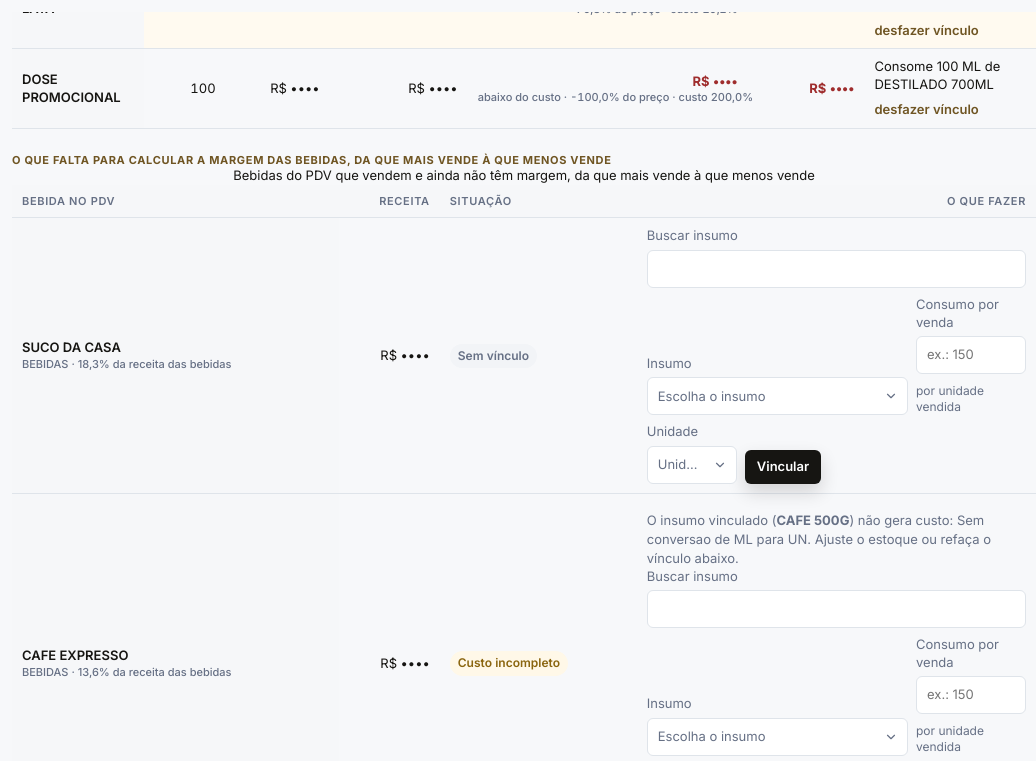
Test: MargemBebidasPanel: o que falta › quantidade invalida (zero): erro anunciado e nao grava
(page scrolled)
Select "POLPA DE FRUTA 1KG (UN)" in the dropdown named "Insumo comprado para SUCO DA CASA" at (777, 396), box [647, 377, 908, 415]
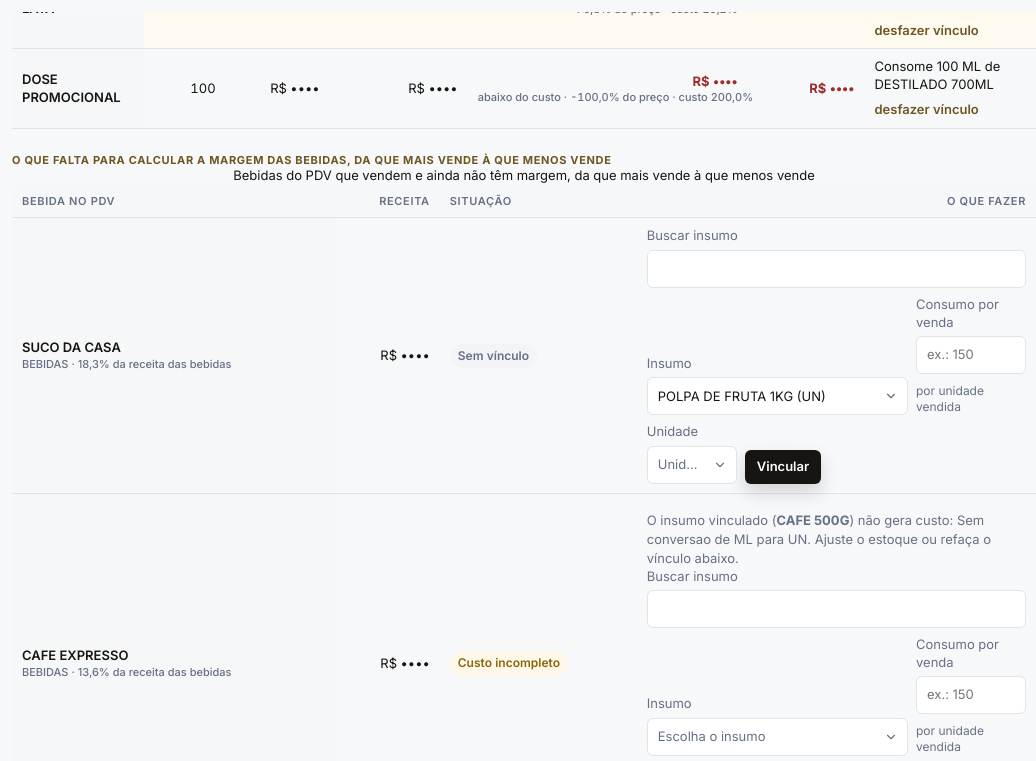
Type "0" into the field named "Quanto uma venda de SUCO DA CASA consome" at (971, 355), box [916, 336, 1026, 374]
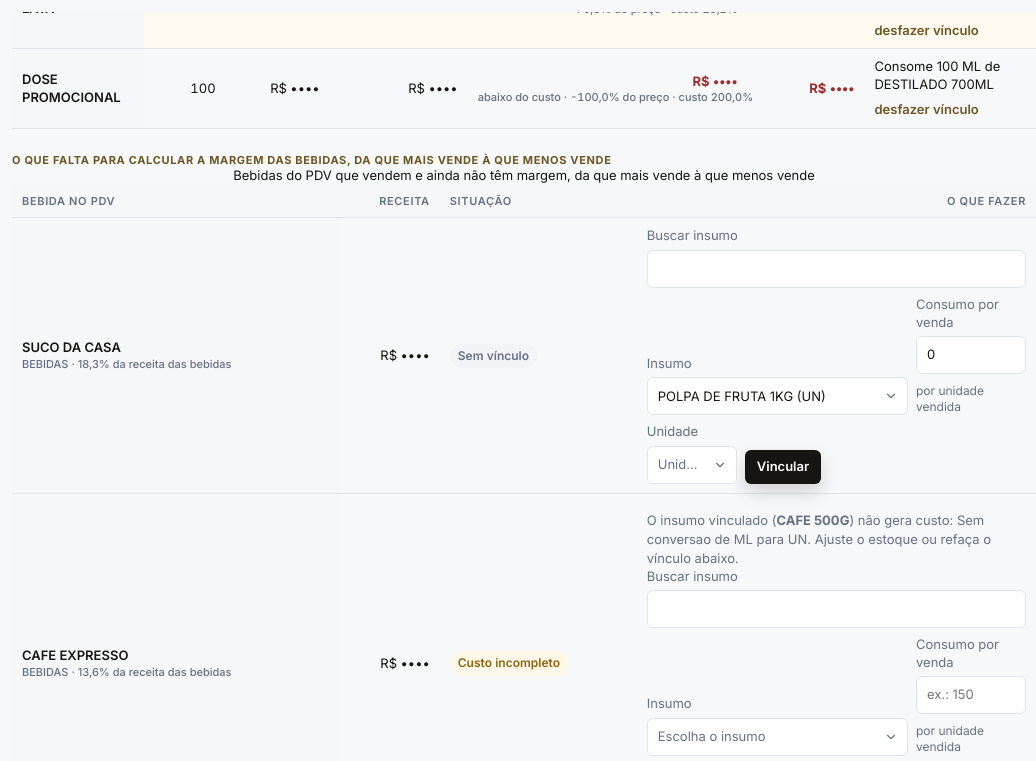
Select "UN" in the dropdown named "Unidade do consumo de SUCO DA CASA" at (692, 465), box [647, 446, 737, 484]
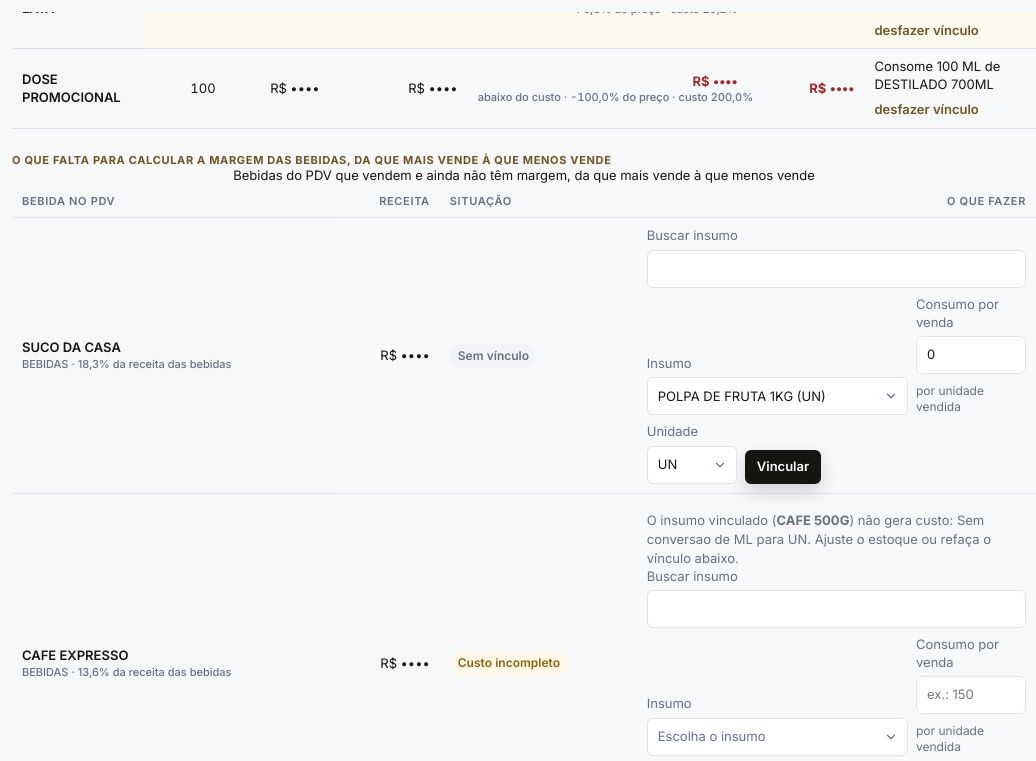
Click the button with aria-label "Vincular SUCO DA CASA" at (783, 467), box [745, 450, 821, 484]
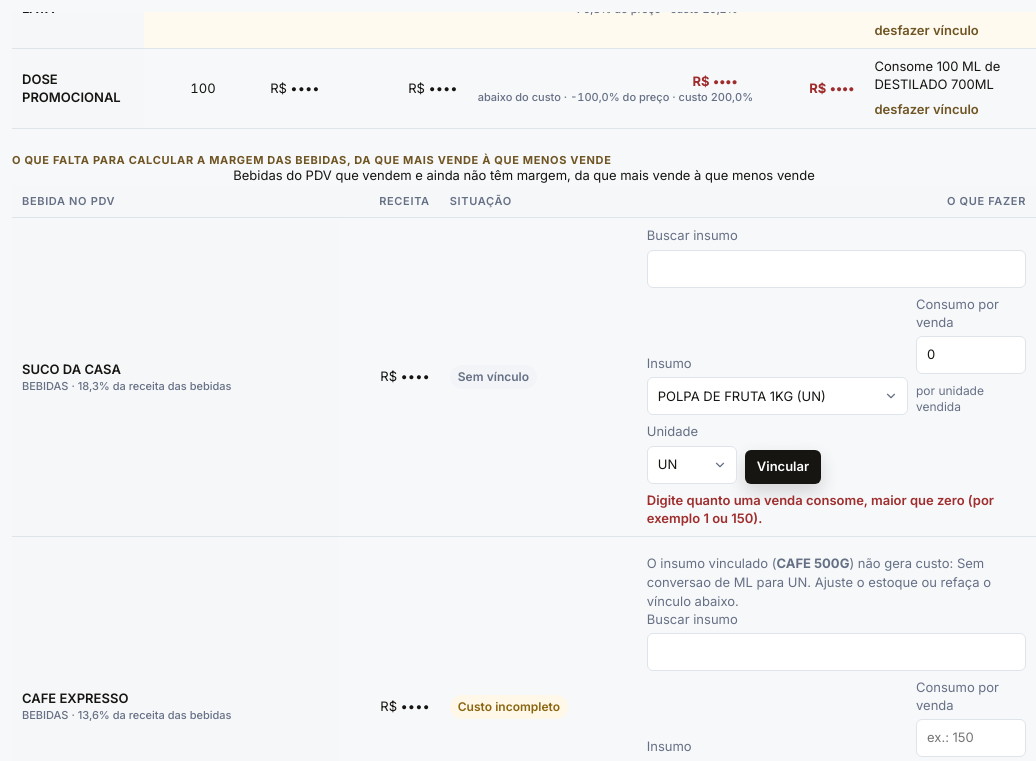
Expected: the message shows "maior que zero", [647, 492, 994, 526]
